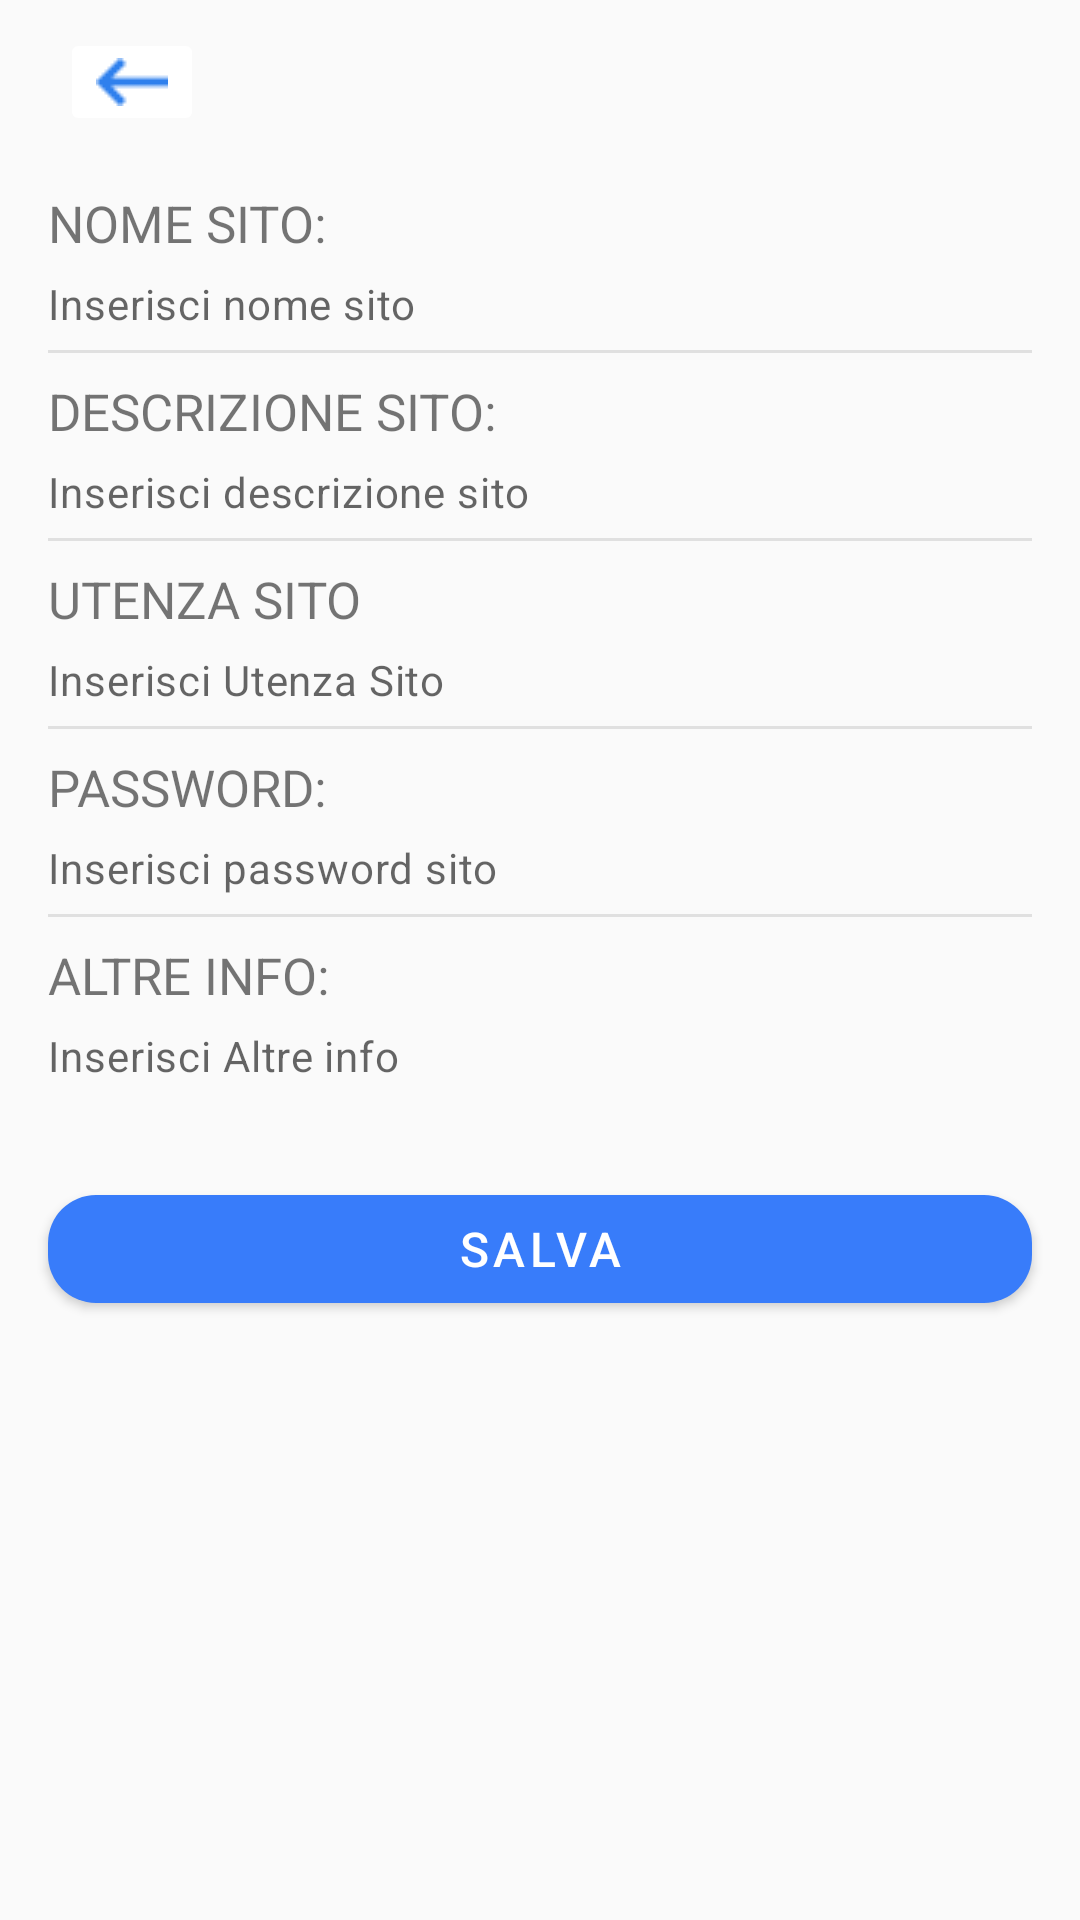

Point at icon controls on the screen. Image size 1080w x 1920h, points as (x,y).
back arrow toolbar: (132,82)
